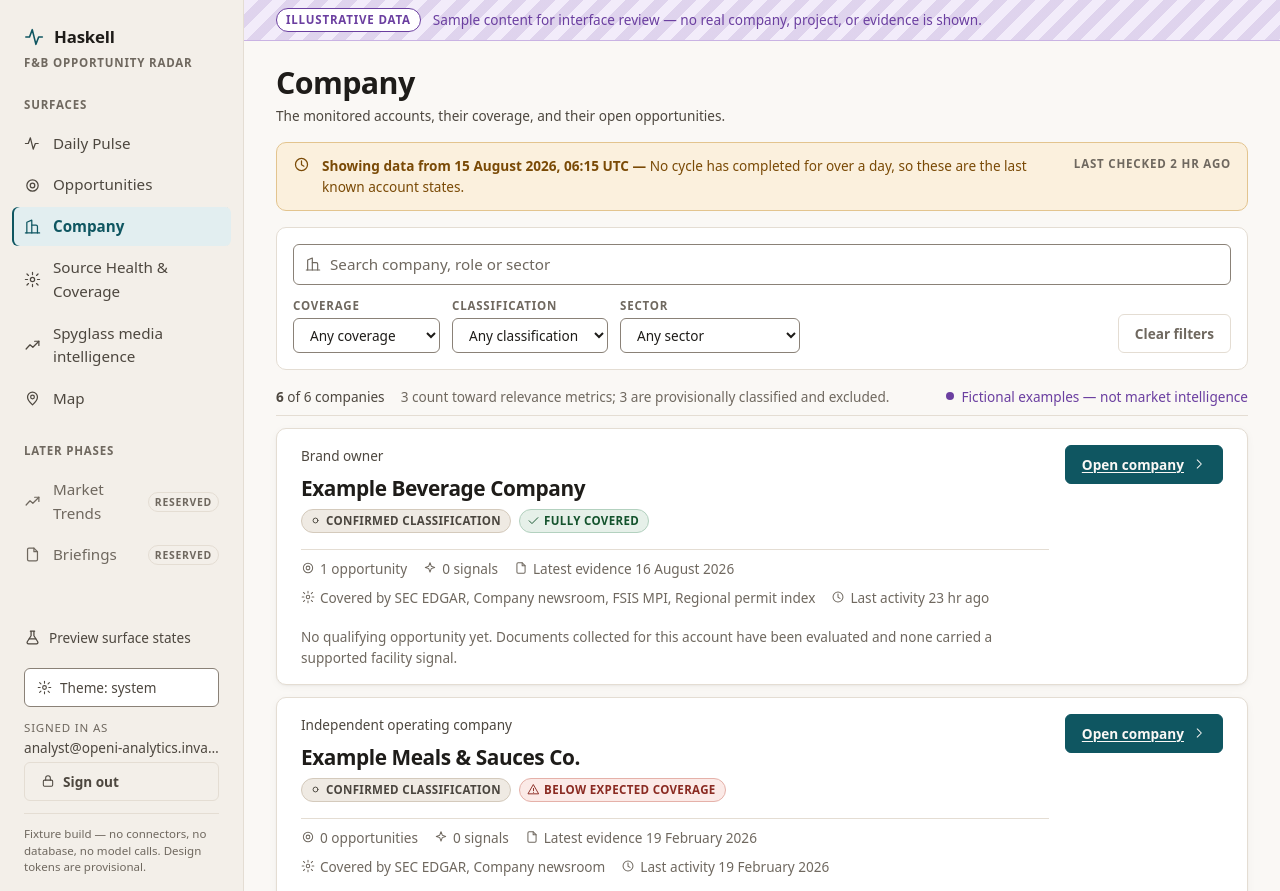
record-scoped parameters do not leak across records › carries the state previewer across every hop
Check: the heading "Company" is shown, box [276,62,415,103]
What coordinates should you click on to do the following:
click the link "Open company" in the row of "Example Beverage Company"
I would click on:
 (1144, 465)
Its box is [1065,445,1223,484].
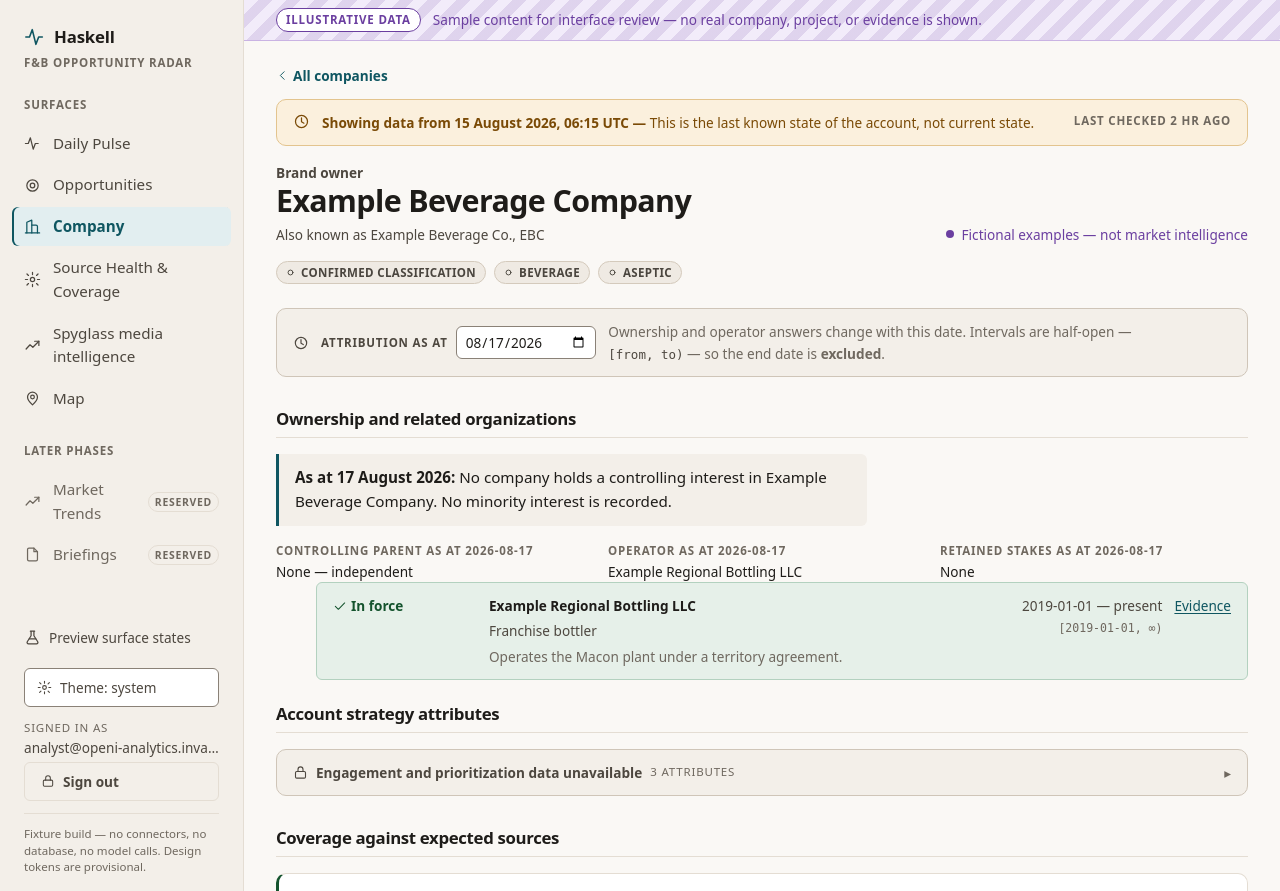
Check: the heading "Example Beverage Company" is shown, box [276,183,691,220]
